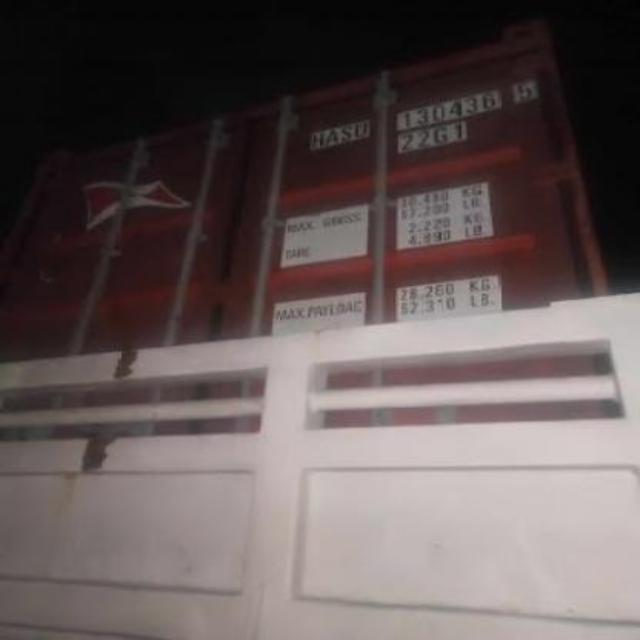0: (432, 105, 448, 121)
1: (400, 112, 416, 128)
3: (464, 94, 480, 114), (414, 108, 428, 124)
4: (448, 98, 464, 118)
5: (512, 80, 536, 100)
6: (482, 90, 496, 108)
A: (326, 127, 339, 147)
H: (310, 129, 326, 147)
S: (341, 122, 354, 142)
U: (354, 121, 368, 141)
